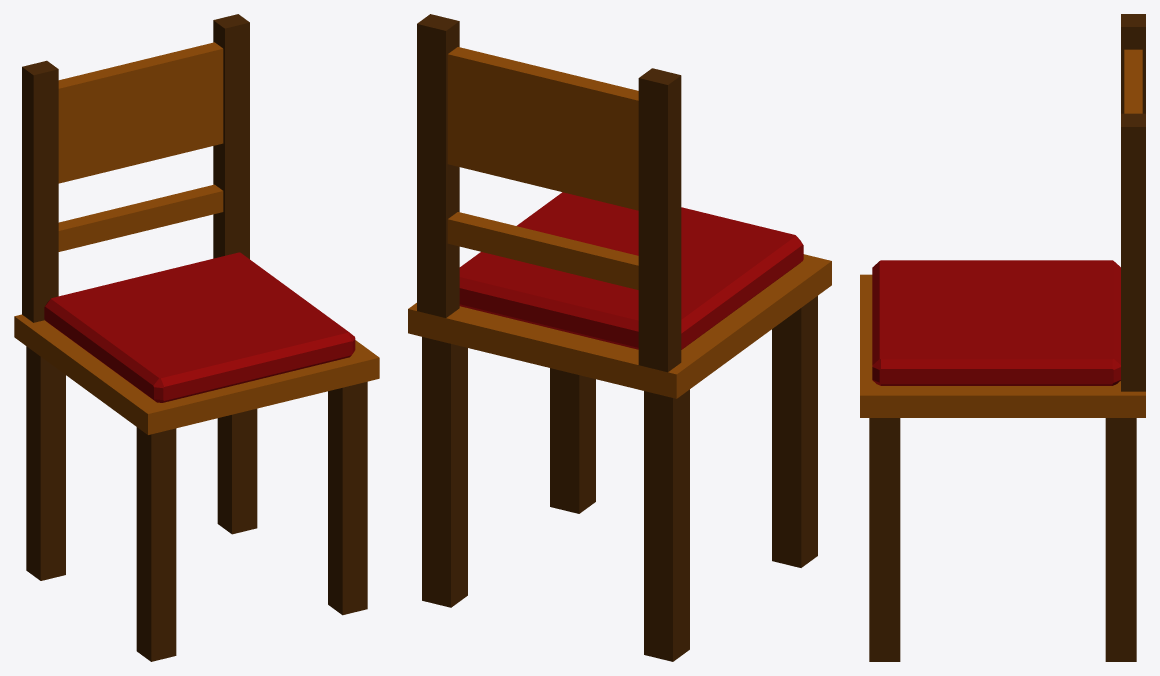
Rendered from chair.glb.
3 views of the same model, side by side, from view 1: azimuth 30°, elevation 25°; view 2: azimuth 150°, elevation 25°; view 3: azimuth 270°, elevation 25° (orthographic). The views are drawn at different scales.
Visible parts, largest first — view 1: root; view 2: root; view 3: root.
Part boxes in pixels (left/top/right/bottom): root: left=14, top=14, right=379, bottom=661; root: left=408, top=14, right=831, bottom=661; root: left=860, top=14, right=1145, bottom=661.
Bounding box in the file's own units: 0.46 × 0.95 × 0.46.
